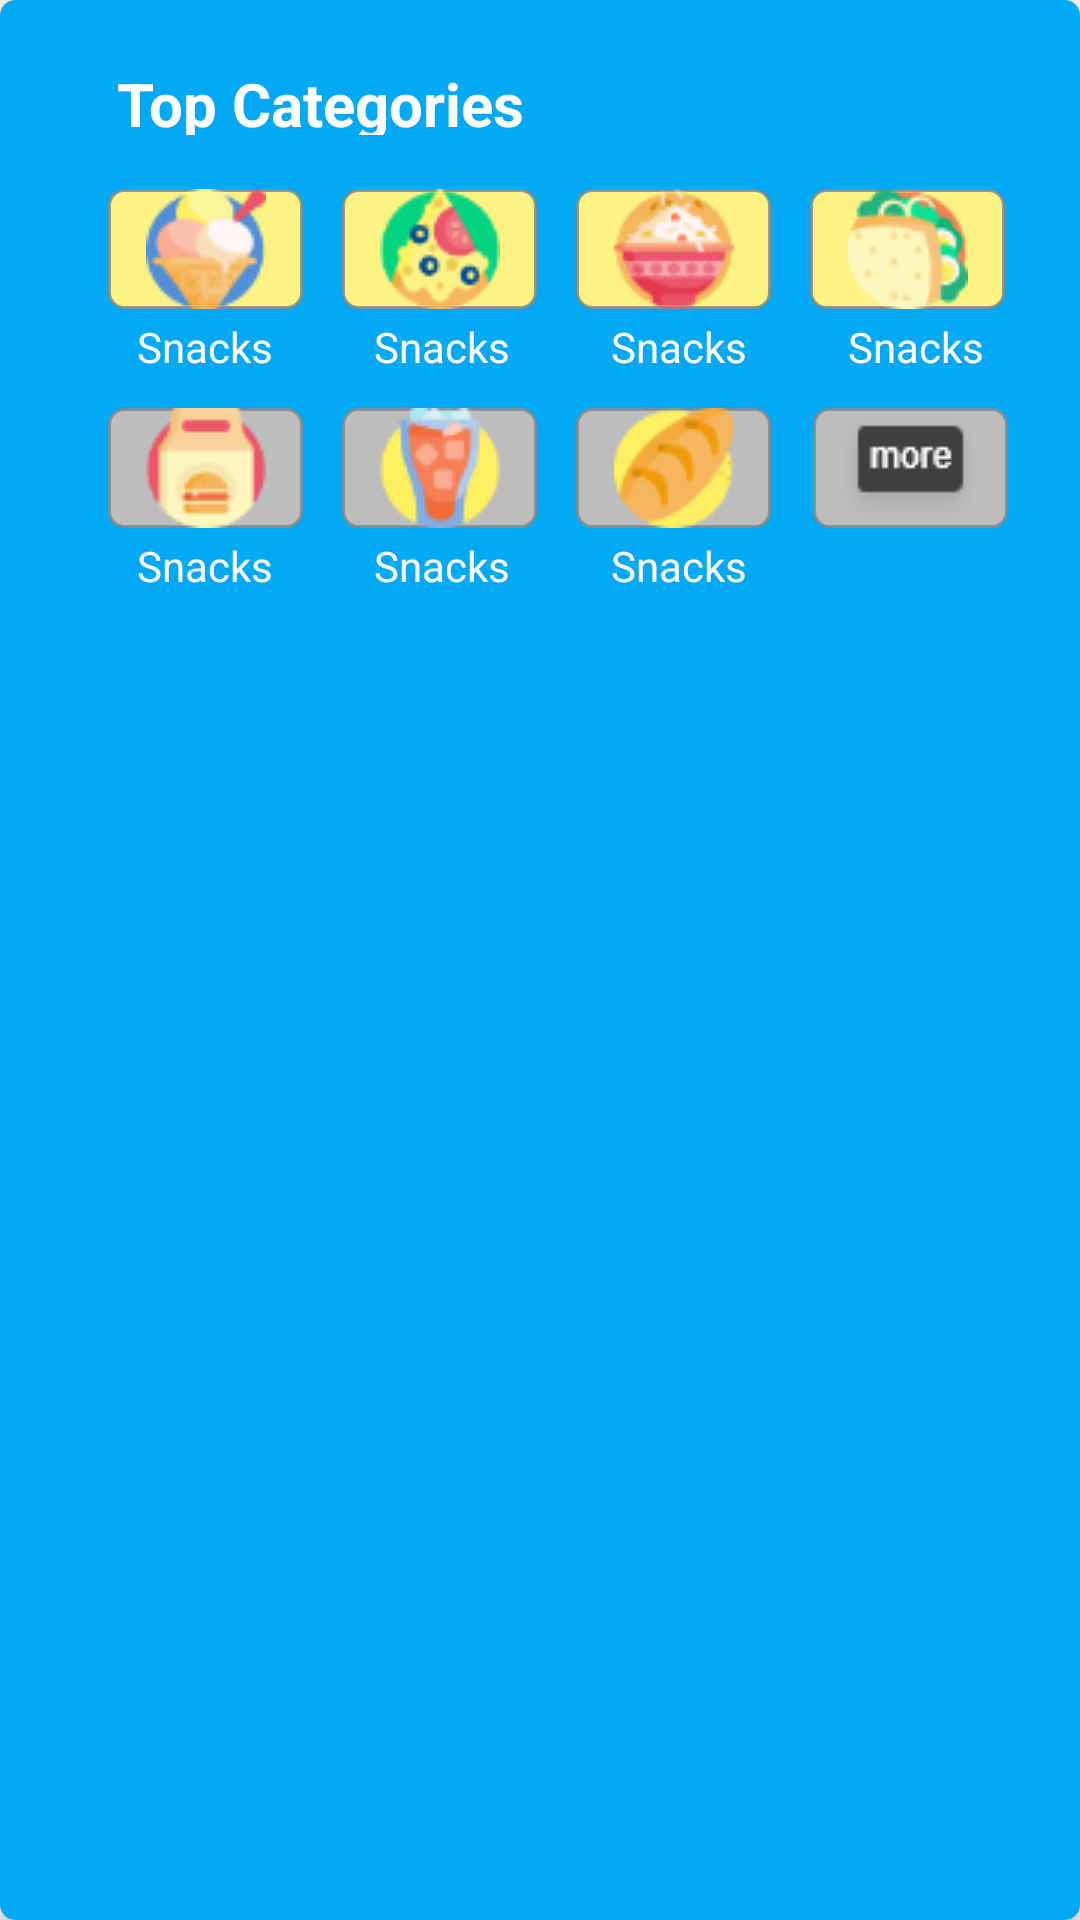

Named icons in this screenshot (1080w x 1920h) and their bounding boxes, (x1=x1, y1=y1, x2=x2, y2=y2):
bread: (x1=576, y1=408, x2=771, y2=528)
colddrink: (x1=342, y1=408, x2=537, y2=528)
fastfood: (x1=108, y1=408, x2=303, y2=528)
icecream: (x1=108, y1=189, x2=303, y2=309)
pizza: (x1=342, y1=189, x2=537, y2=309)
rice: (x1=576, y1=189, x2=771, y2=309)
sandwich: (x1=810, y1=189, x2=1005, y2=309)
